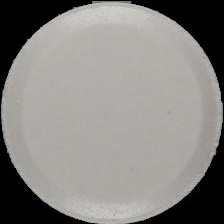66267-029: (0, 0, 224, 224)
